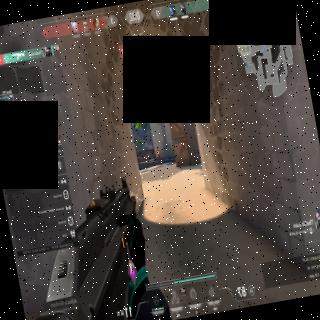ENEMY-BODY: (156, 147, 162, 161)
ENEMY-HEAD: (156, 148, 158, 152)
